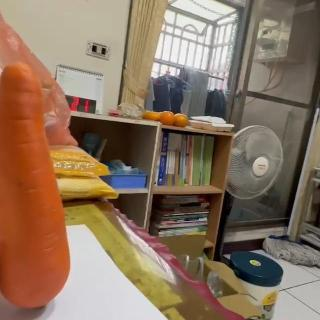carrot: (0, 63, 73, 311)
